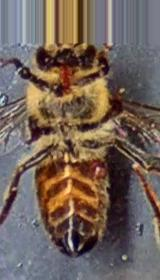varroa_mite: (78, 148, 116, 190)
